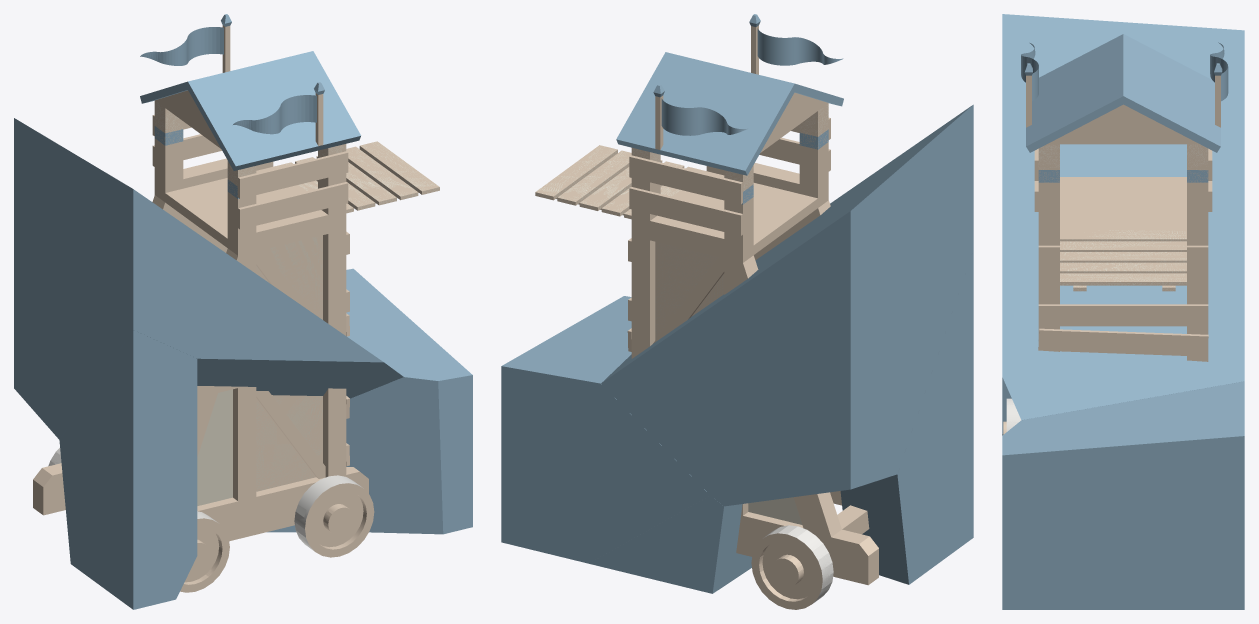
File: siegeTower.fbx
3 views of the same model, side by side, from view 1: azimuth 30°, elevation 25°; view 2: azimuth 150°, elevation 25°; view 3: azimuth 270°, elevation 25° (orthographic). The views are drawn at different scales.
Parts seen in each view (by area): view 1: siegeTower_cell.007, siegeTower_cell.006, siegeTower, siegeTower_cell.004, siegeTower_cell.002, siegeTower_cell, siegeTower_cell.016, siegeTower_cell.014, siegeTower_cell.003, siegeTower_cell.010, siegeTower_cell.009; view 2: siegeTower_cell.007, siegeTower, siegeTower_cell.002, siegeTower_cell.004, siegeTower_cell.005, siegeTower_cell.006, siegeTower_cell.012, siegeTower_cell.003; view 3: siegeTower_cell.002, siegeTower_cell.007, siegeTower, siegeTower_cell.006.
Part boxes in pixels (x1,y1,x2,y2): siegeTower_cell.007: (14,118,403,439); siegeTower_cell.006: (140,51,439,336); siegeTower: (33,21,420,592); siegeTower_cell.004: (59,330,197,609); siegeTower_cell.002: (346,268,472,534); siegeTower_cell: (197,388,368,541); siegeTower_cell.016: (233,95,316,134); siegeTower_cell.014: (140,27,223,65); siegeTower_cell.003: (33,463,65,515); siegeTower_cell.010: (180,519,229,592); siegeTower_cell.009: (294,498,372,556); siegeTower_cell.007: (601,104,973,506); siegeTower: (535,15,878,609); siegeTower_cell.002: (501,296,709,563); siegeTower_cell.004: (840,250,973,584); siegeTower_cell.005: (589,495,751,593); siegeTower_cell.006: (553,52,843,345); siegeTower_cell.012: (751,525,833,609); siegeTower_cell.003: (743,492,868,576); siegeTower_cell.002: (1002,381,1244,609); siegeTower_cell.007: (1002,14,1244,420); siegeTower: (1003,34,1228,433); siegeTower_cell.006: (1026,34,1216,361).
Bounding box in the file's own units: 1972 × 2603 × 1201.
